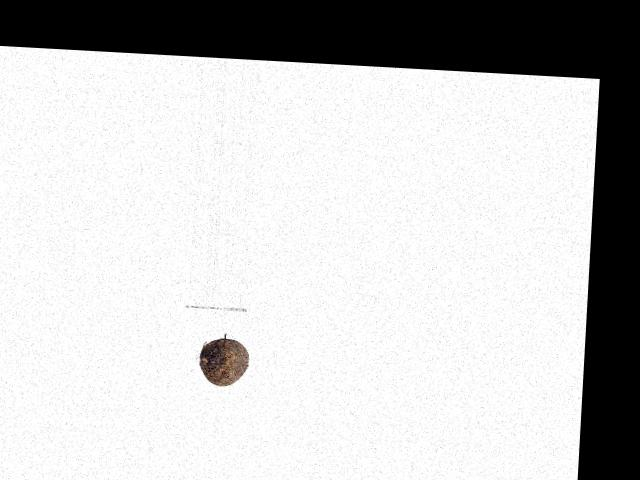beet: (199, 337, 251, 386)
